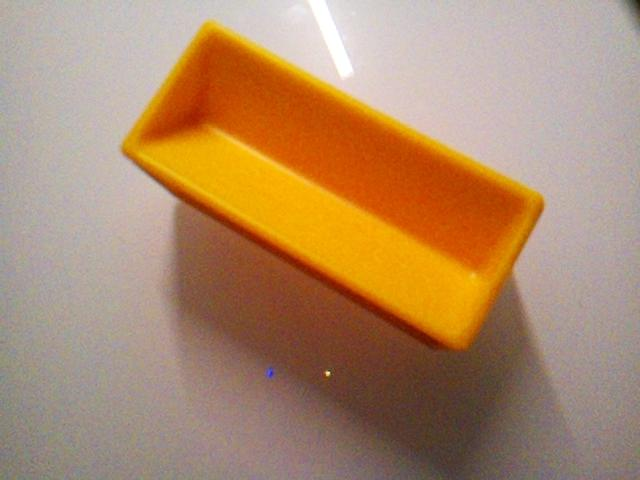yellow: (120, 19, 547, 353)
